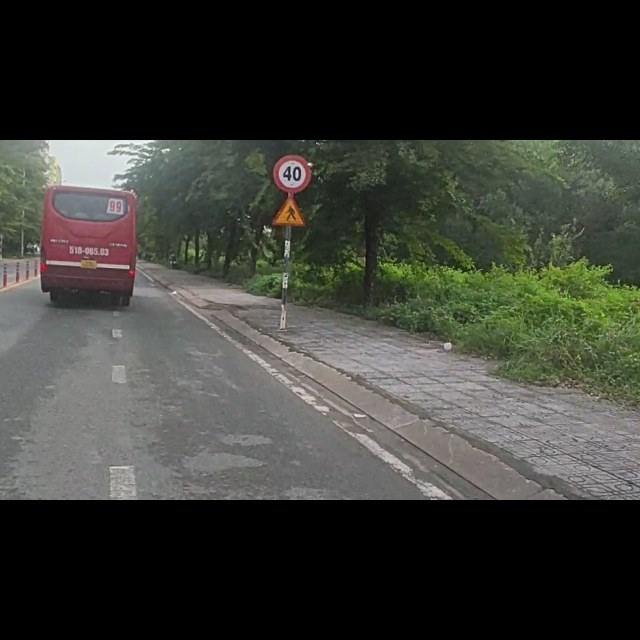bien_nguy_hiem: (275, 21, 313, 92), (271, 97, 309, 154)
